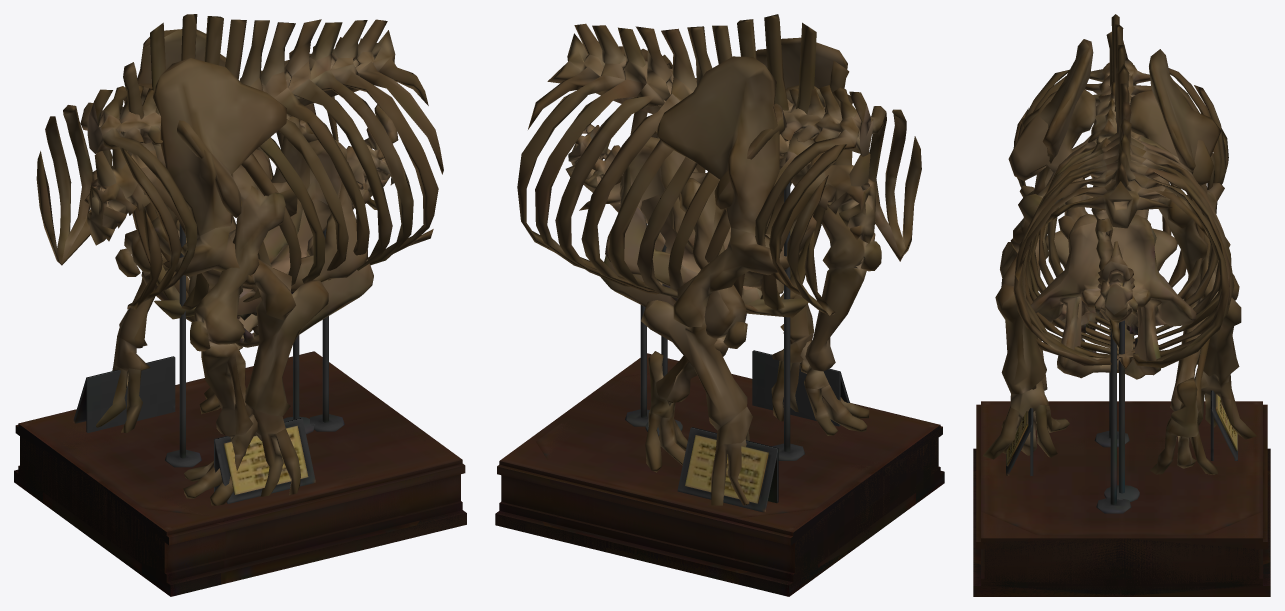
The model's file is fossil-megacero.glb.
The picture shows the model from 3 angles, left to right: view 1: azimuth 30°, elevation 25°; view 2: azimuth 150°, elevation 25°; view 3: azimuth 270°, elevation 25°; orthographic projection. The views are drawn at different scales.
Visible parts, largest first — view 1: mFtrFossilBrontotheriumB, mFossilBaseEnd (×2), mFossilBaseMiddle, mFtrFossilBrontotheriumC, mFtrFossilBrontotheriumA; view 2: mFtrFossilBrontotheriumB, mFossilBaseEnd (×2), mFossilBaseMiddle, mFtrFossilBrontotheriumC, mFtrFossilBrontotheriumA; view 3: mFossilBaseEnd (×2), mFtrFossilBrontotheriumB, mFossilBaseMiddle, mFtrFossilBrontotheriumC, mFtrFossilBrontotheriumA.
Part boxes in pixels (box(x1,y1,x2,y2)): mFtrFossilBrontotheriumB: box(84, 14, 443, 496); mFossilBaseEnd (×2): box(14, 223, 466, 596); mFossilBaseMiddle: box(14, 335, 466, 596); mFtrFossilBrontotheriumC: box(36, 83, 377, 505); mFtrFossilBrontotheriumA: box(151, 104, 398, 347); mFtrFossilBrontotheriumB: box(517, 14, 876, 505); mFossilBaseEnd (×2): box(495, 182, 943, 596); mFossilBaseMiddle: box(495, 244, 944, 596); mFtrFossilBrontotheriumC: box(579, 85, 921, 472); mFtrFossilBrontotheriumA: box(565, 113, 821, 322); mFossilBaseEnd (×2): box(973, 326, 1270, 596); mFtrFossilBrontotheriumB: box(983, 14, 1256, 459); mFossilBaseMiddle: box(973, 320, 1270, 596); mFtrFossilBrontotheriumC: box(1000, 40, 1228, 474); mFtrFossilBrontotheriumA: box(1031, 214, 1196, 379).
Bounding box in the file's own units: 20.05 × 32.56 × 18.33.
Materials: 6 (6 with a texture image).
